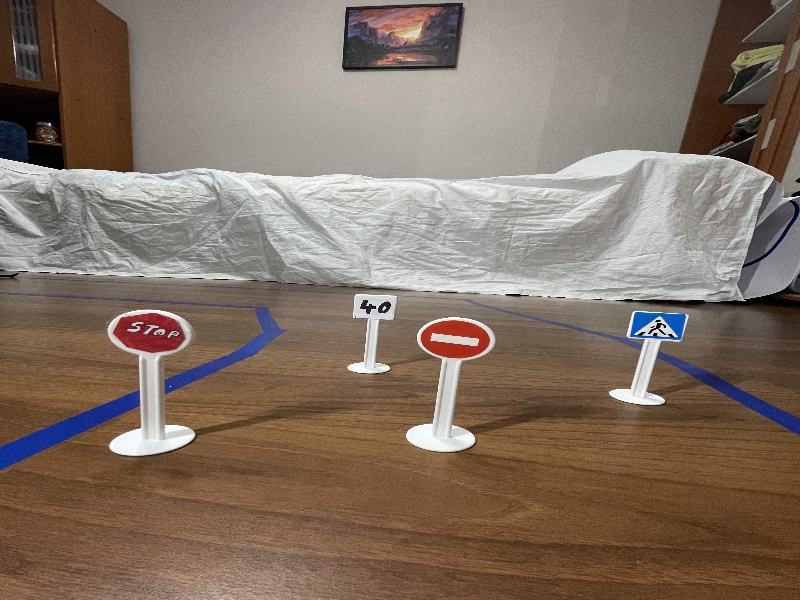interzis: (414, 307, 494, 368)
stop: (104, 305, 195, 357)
trecere_pietoni: (623, 303, 696, 350)
viteza_limita_40: (346, 289, 401, 321)
